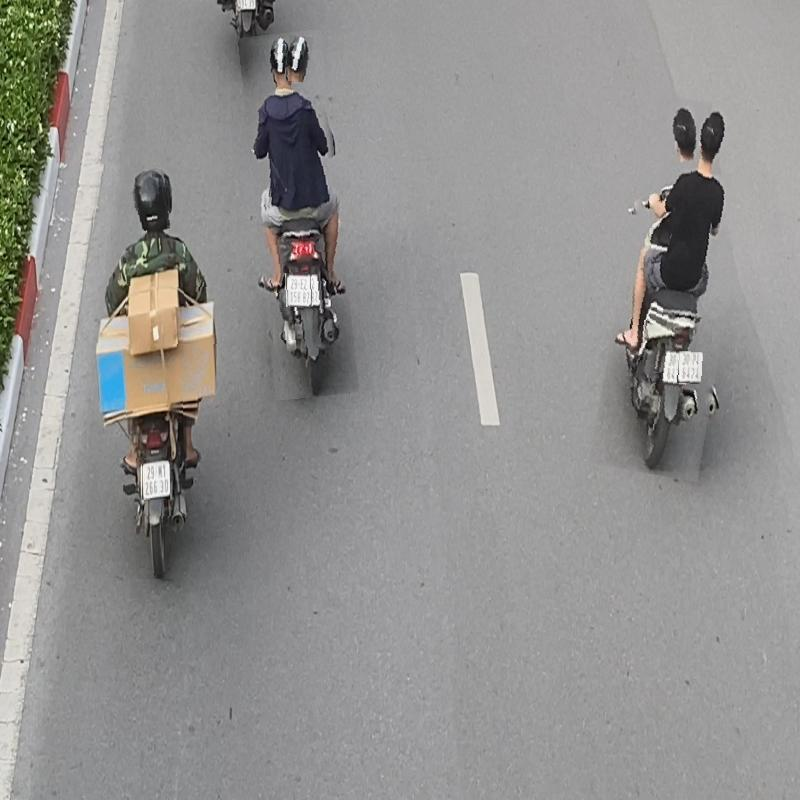helmet: (132, 169, 170, 230), (286, 36, 312, 82)
licenseplate: (142, 460, 170, 500), (286, 272, 312, 307), (678, 351, 702, 384)
motorcyclist: (88, 164, 221, 580), (606, 96, 746, 480), (248, 30, 351, 399)
nohelmet: (670, 105, 700, 162)
